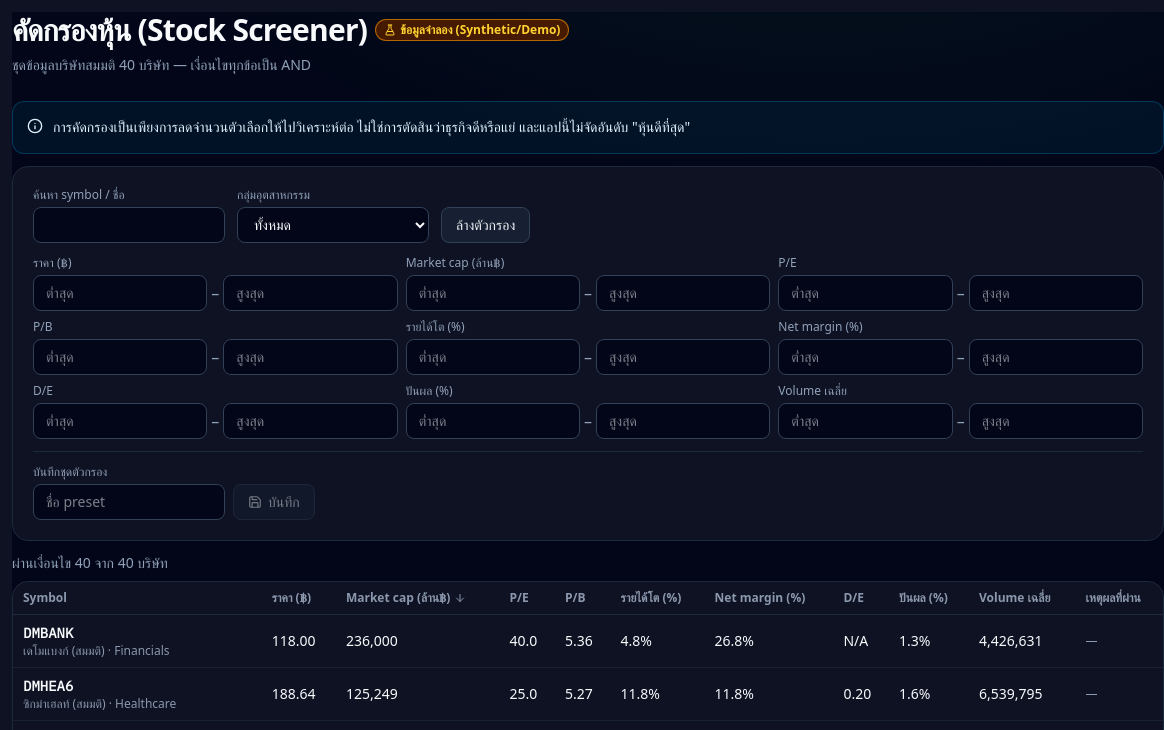
Test: screener › filters change the result set
The width and height of the screenshot is (1164, 730).
Expected: the text "ผ่านเงื่อนไข 40 จาก 40 บริษัท" is shown, [12,552,168,572]
Select "Technology" in the dropdown labelled "กลุ่มอุตสาหกรรม": (333, 224) [237,206,429,242]
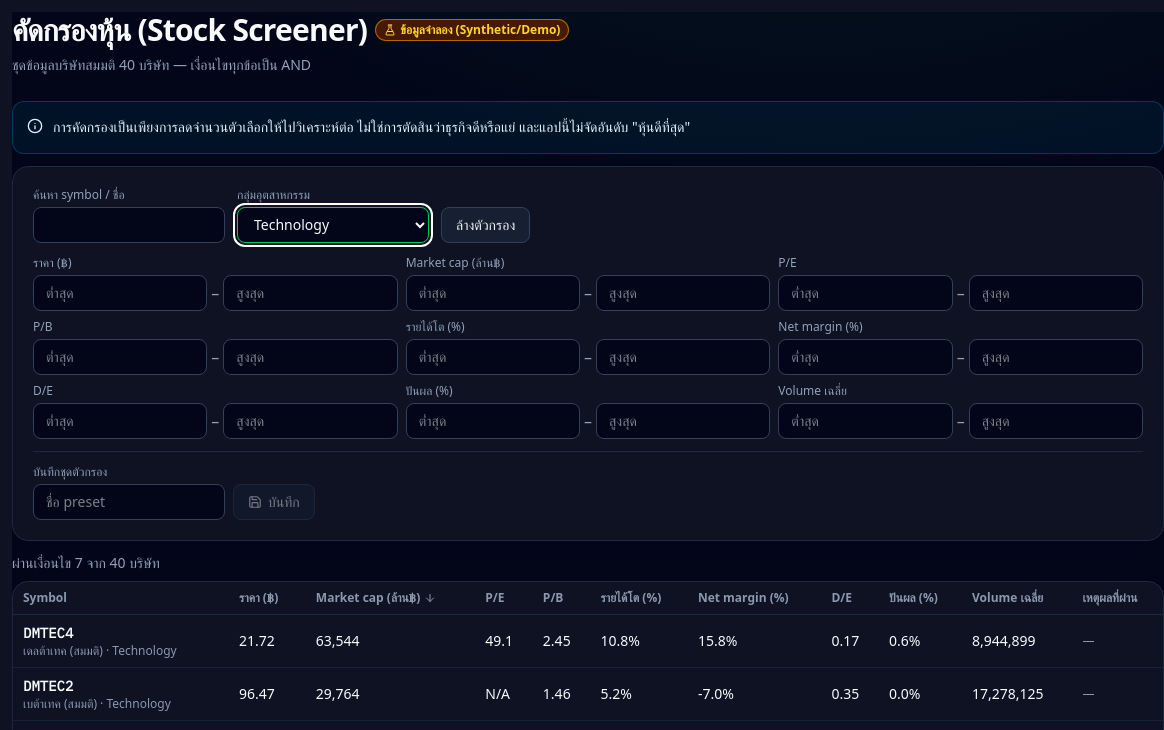
Result: the text "ผ่านเงื่อนไข 7 จาก 40 บริษัท" is shown at [12,552,160,572]
In the number field named "P/E สูงสุด": (1056, 292) [969,274,1143,310], type "30"
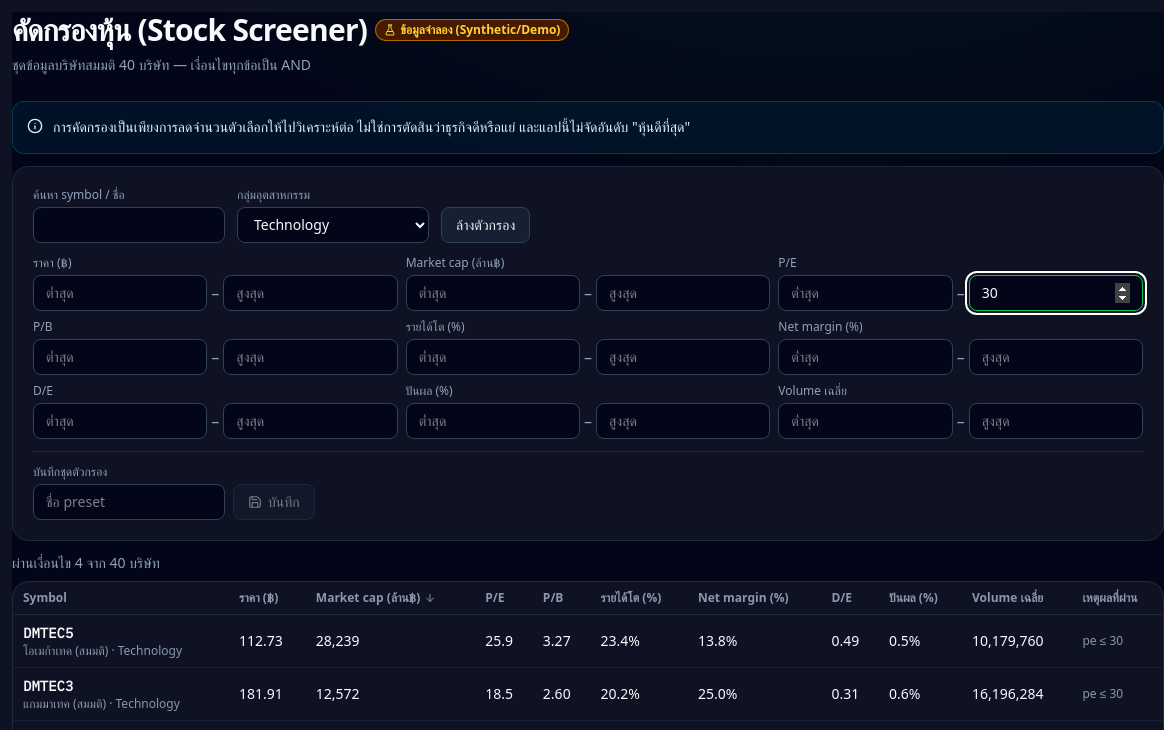
Click the button "ล้างตัวกรอง": (486, 224) [441,206,530,242]
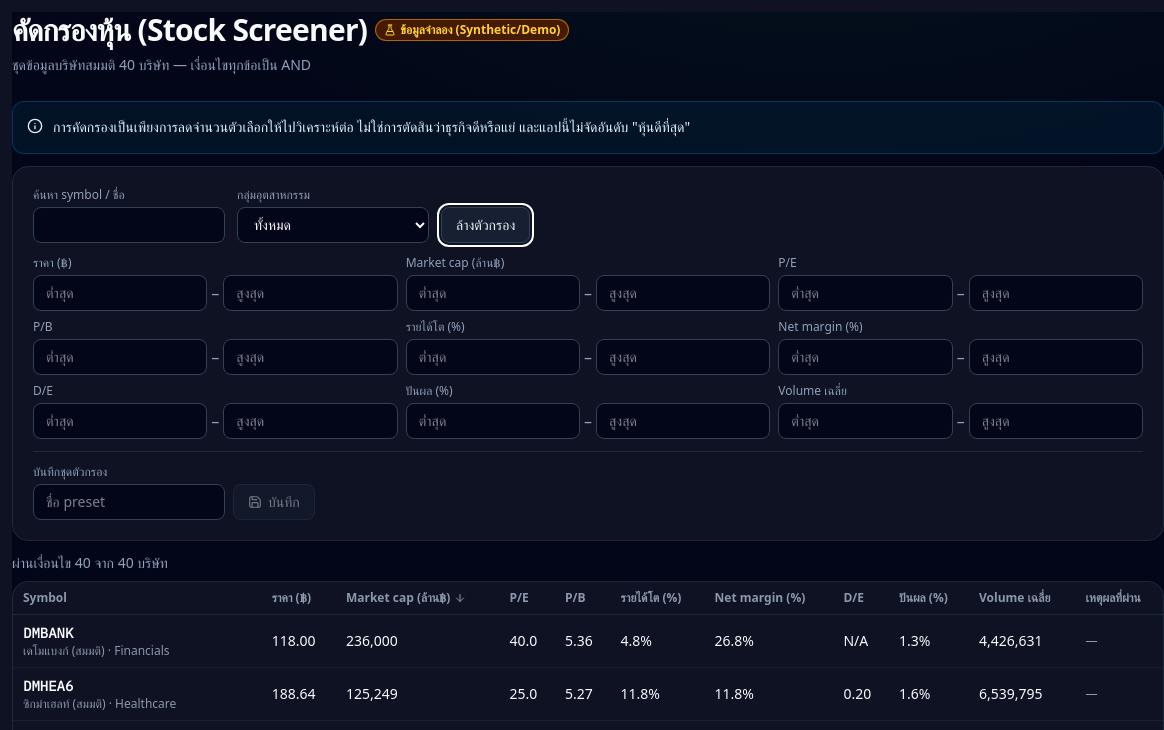
Result: the text "ผ่านเงื่อนไข 40 จาก 40 บริษัท" is shown at [12,552,168,572]
